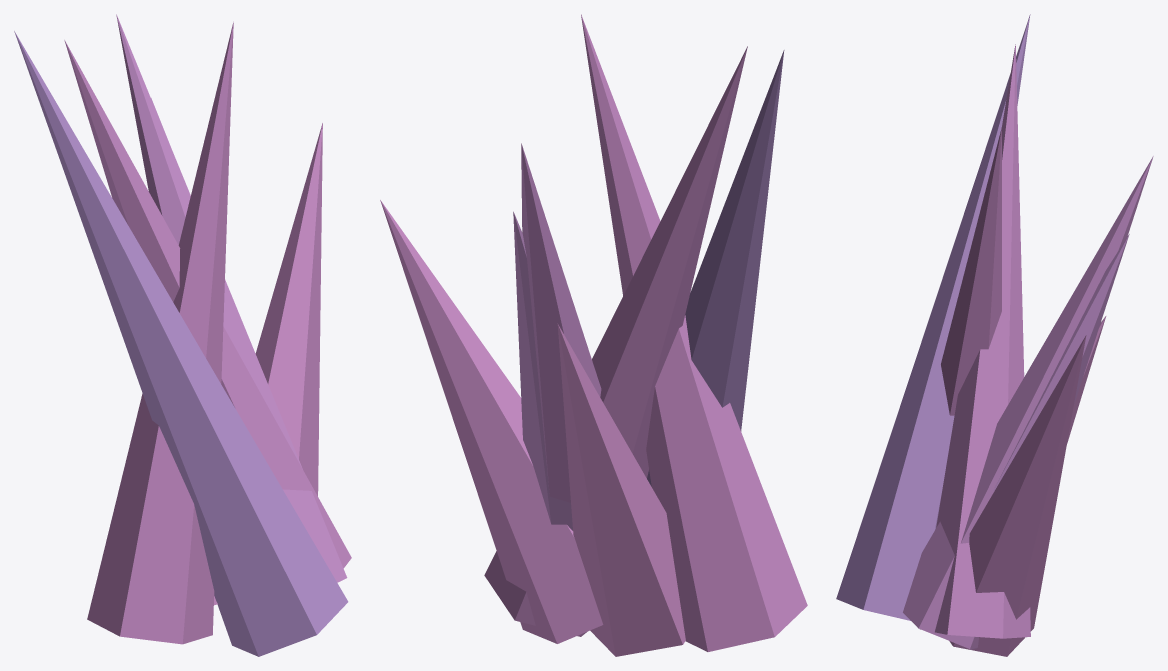
File: CrystalCluster.fbx
The picture shows the model from 3 angles, left to right: view 1: azimuth 30°, elevation 25°; view 2: azimuth 150°, elevation 25°; view 3: azimuth 270°, elevation 25°; orthographic projection. The views are drawn at different scales.
Parts seen in each view (by area): view 1: Prop_CrystalCluster; view 2: Prop_CrystalCluster; view 3: Prop_CrystalCluster.
Part boxes in pixels (bbox=[...]): Prop_CrystalCluster: bbox=[14, 14, 351, 656]; Prop_CrystalCluster: bbox=[380, 14, 807, 656]; Prop_CrystalCluster: bbox=[836, 14, 1153, 656].
Bounding box in the file's own units: 0.3721 × 0.6335 × 0.3413.
